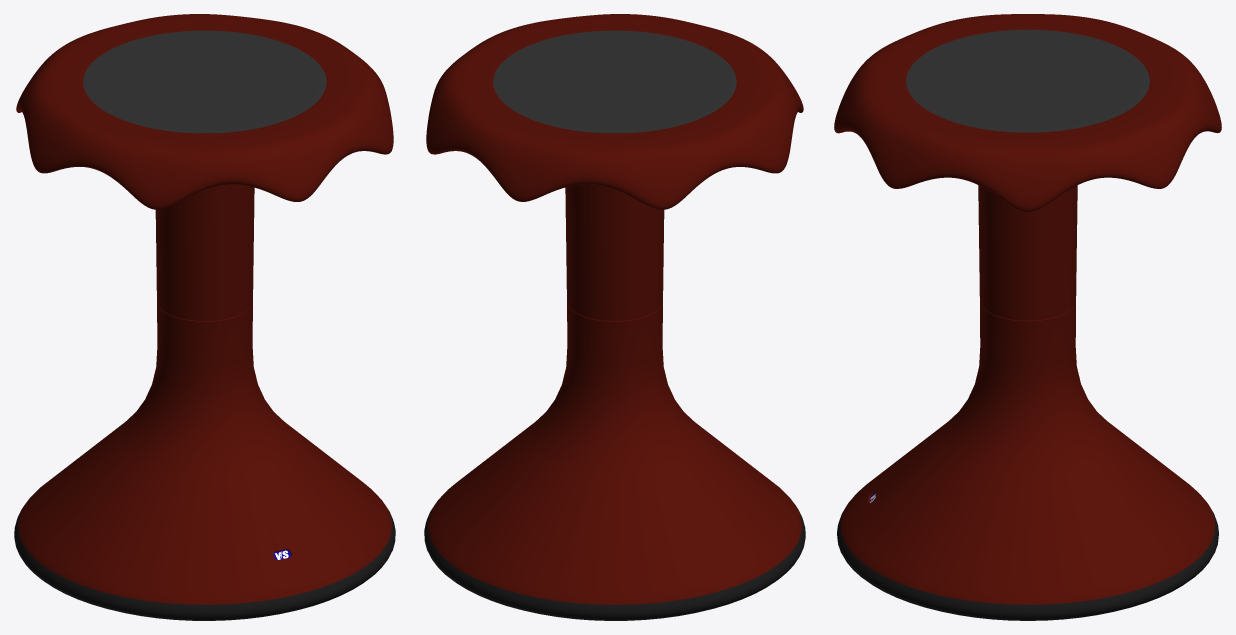
Rendered from Hokki Stool.FBX.
The picture shows the model from 3 angles, left to right: view 1: azimuth 30°, elevation 25°; view 2: azimuth 150°, elevation 25°; view 3: azimuth 270°, elevation 25°; orthographic projection.
Visible parts, largest first — view 1: Cylinder002, Sphere005, Object005; view 2: Cylinder002, Sphere005, Object005; view 3: Cylinder002, Sphere005, Object005.
Part boxes in pixels (bbox=[...]): Cylinder002: bbox=[14, 184, 395, 620]; Sphere005: bbox=[16, 14, 393, 209]; Object005: bbox=[83, 30, 326, 133]; Cylinder002: bbox=[424, 184, 805, 620]; Sphere005: bbox=[426, 14, 803, 209]; Object005: bbox=[493, 30, 736, 133]; Cylinder002: bbox=[837, 185, 1218, 620]; Sphere005: bbox=[834, 14, 1221, 211]; Object005: bbox=[906, 29, 1149, 132].
Size of the model in its own units: 341 by 463 by 341.
4 materials, 1 textured.
